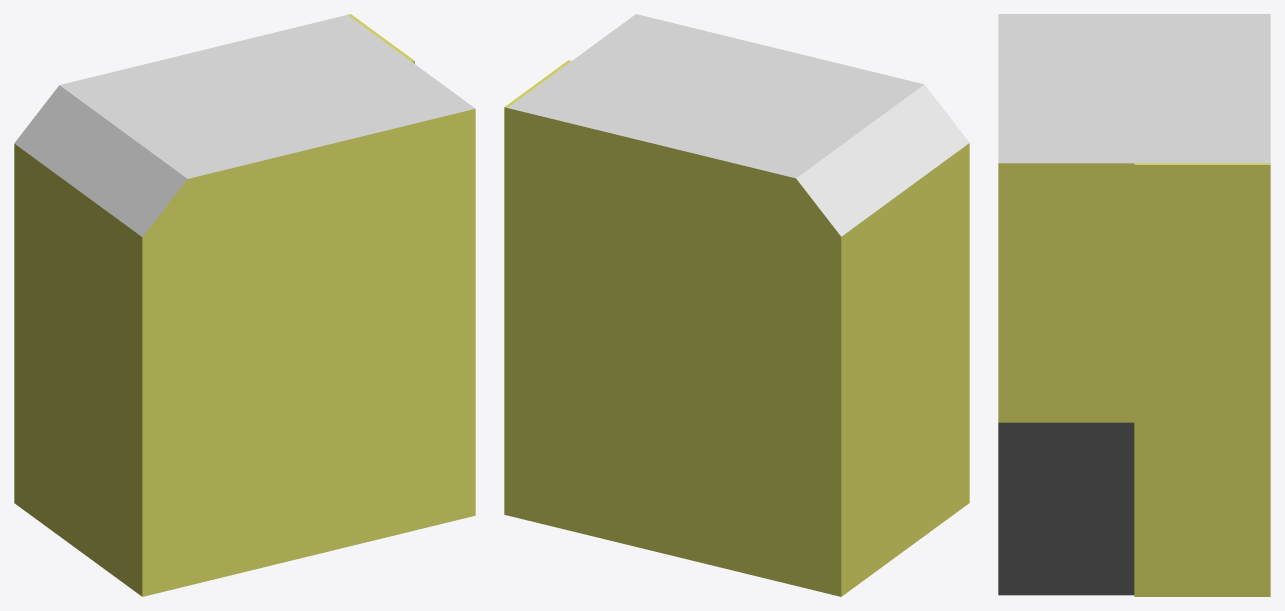
File: counductor_coupe_box (2).fbx
3 renders of one model, left to right at view 1: azimuth 30°, elevation 25°; view 2: azimuth 150°, elevation 25°; view 3: azimuth 270°, elevation 25°, orthographic. The views are drawn at different scales.
Visible parts, largest first — view 1: Cube; view 2: Cube; view 3: Cube.
Part boxes in pixels (box(x1,y1,x2,y2)): Cube: box(14, 14, 475, 596); Cube: box(504, 14, 969, 596); Cube: box(998, 14, 1270, 596).
Bounding box in the file's own units: 303 × 350 × 200.
